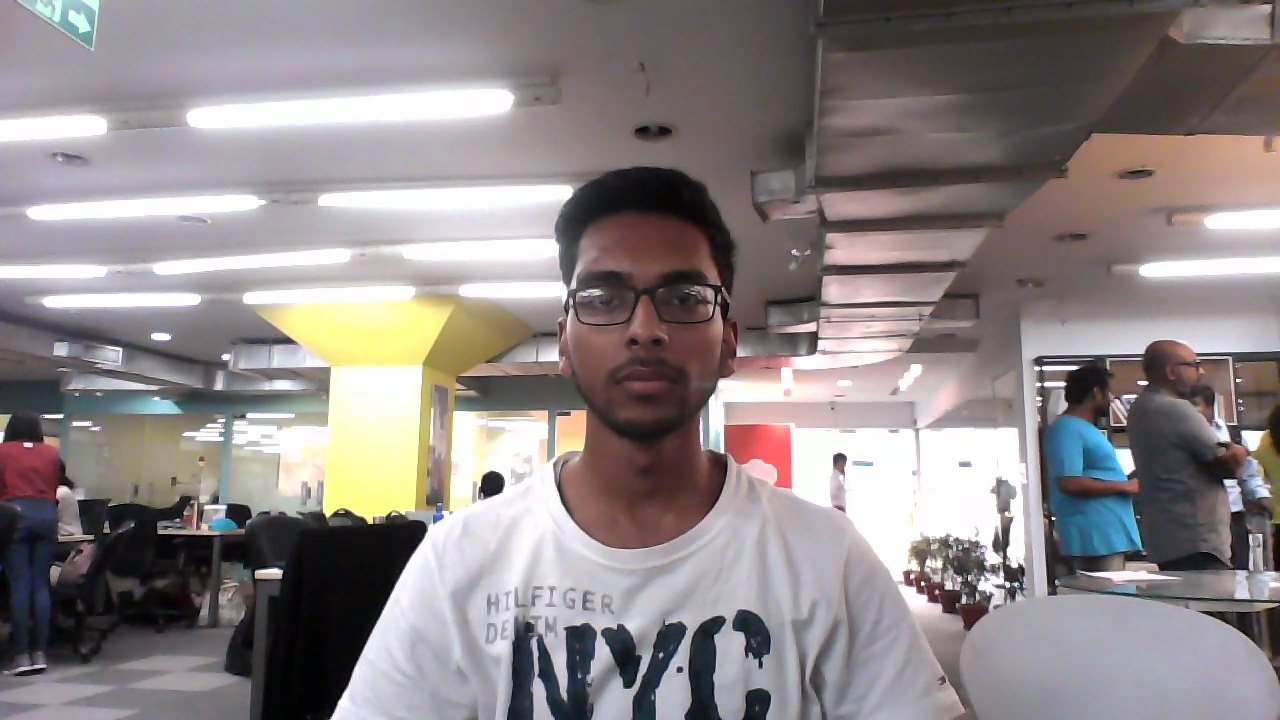open: (552, 158, 750, 450)
